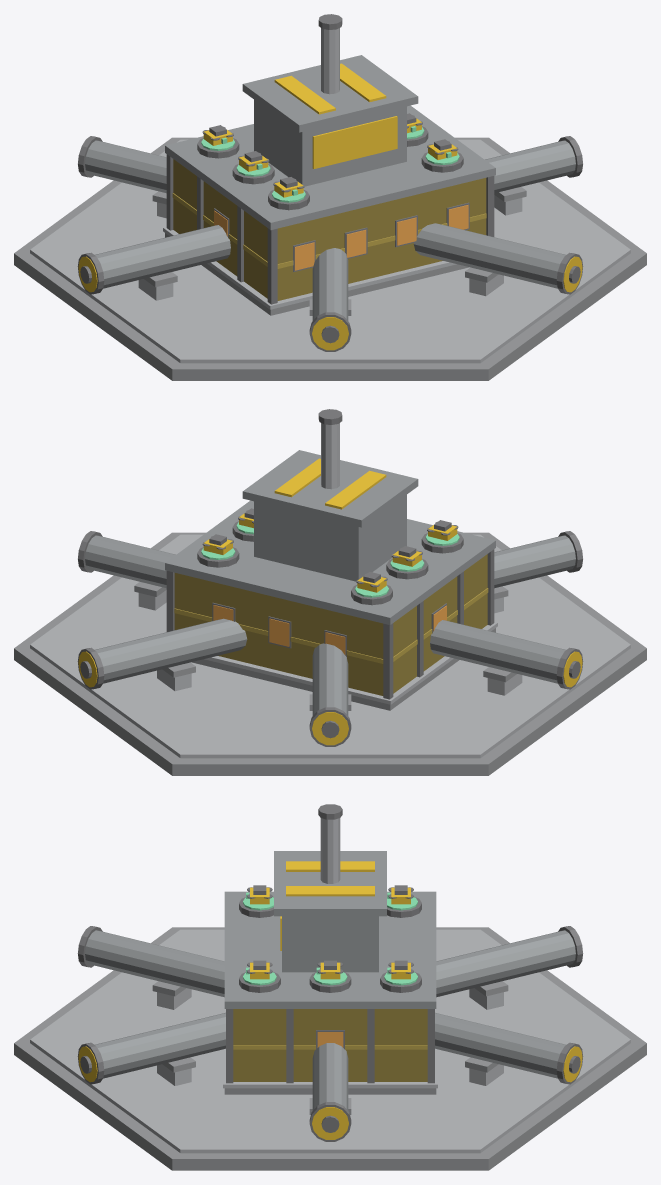
The model's file is maintenance_building_s2_100.glb.
3 views of the same model, one above another, from view 1: azimuth 30°, elevation 25°; view 2: azimuth 150°, elevation 25°; view 3: azimuth 270°, elevation 25° (orthographic).
Visible parts, largest first — view 1: M_FoundRim, M_Foundation, M_Wall_S, M_RoofS, M_HangarRoof, M_Hangar, M_PipeStubSE, M_PipeStubW, M_PipeStubE, M_PipeStubNW, M_HangarOpening, M_PipeStubSW (+15 smaller); view 2: M_FoundRim, M_Foundation, M_Wall_N, M_Hangar, M_RoofN, M_HangarRoof, M_PipeStubNE, M_PipeStubW, M_PipeStubE, M_PipeStubSW, M_PipeStubNW, M_RoofS (+14 smaller); view 3: M_FoundRim, M_Foundation, M_RoofN, M_RoofS, M_Hangar, M_HangarRoof, M_PipeStubNW, M_PipeStubSW, M_PipeStubNE, M_PipeStubSE, M_Wall_S, M_Wall_N (+13 smaller).
Part boxes in pixels (<box>): M_FoundRim: <box>30,139,630,363</box>; M_Foundation: <box>14,137,646,380</box>; M_Wall_S: <box>244,178,486,300</box>; M_RoofS: <box>235,146,495,229</box>; M_HangarRoof: <box>242,55,418,132</box>; M_Hangar: <box>254,100,406,186</box>; M_PipeStubSE: <box>413,223,565,288</box>; M_PipeStubW: <box>95,225,230,288</box>; M_PipeStubE: <box>485,140,575,193</box>; M_PipeStubNW: <box>85,140,166,193</box>; M_HangarOpening: <box>312,116,397,168</box>; M_PipeStubSW: <box>312,248,348,320</box>; M_FoundRim: <box>30,534,630,758</box>; M_Foundation: <box>14,532,646,775</box>; M_Wall_N: <box>174,573,416,695</box>; M_Hangar: <box>254,495,406,581</box>; M_RoofN: <box>165,541,425,624</box>; M_HangarRoof: <box>242,450,418,527</box>; M_PipeStubNE: <box>95,618,247,683</box>; M_PipeStubW: <box>430,620,565,683</box>; M_PipeStubE: <box>85,535,175,588</box>; M_PipeStubSW: <box>494,535,575,588</box>; M_PipeStubNW: <box>312,643,348,715</box>; M_RoofS: <box>236,500,495,572</box>; M_FoundRim: <box>30,929,630,1153</box>; M_Foundation: <box>14,927,646,1170</box>; M_RoofN: <box>366,891,436,1008</box>; M_RoofS: <box>224,891,294,1008</box>; M_Hangar: <box>282,916,378,972</box>; M_HangarRoof: <box>274,851,386,916</box>; M_PipeStubNW: <box>436,930,575,997</box>; M_PipeStubSW: <box>85,930,224,997</box>; M_PipeStubNE: <box>435,1012,565,1078</box>; M_PipeStubSE: <box>95,1012,225,1078</box>; M_Wall_S: <box>233,1009,286,1081</box>; M_Wall_N: <box>374,1009,427,1081</box>.
Bounding box in the file's own units: 3.51 × 1.68 × 3.92.
